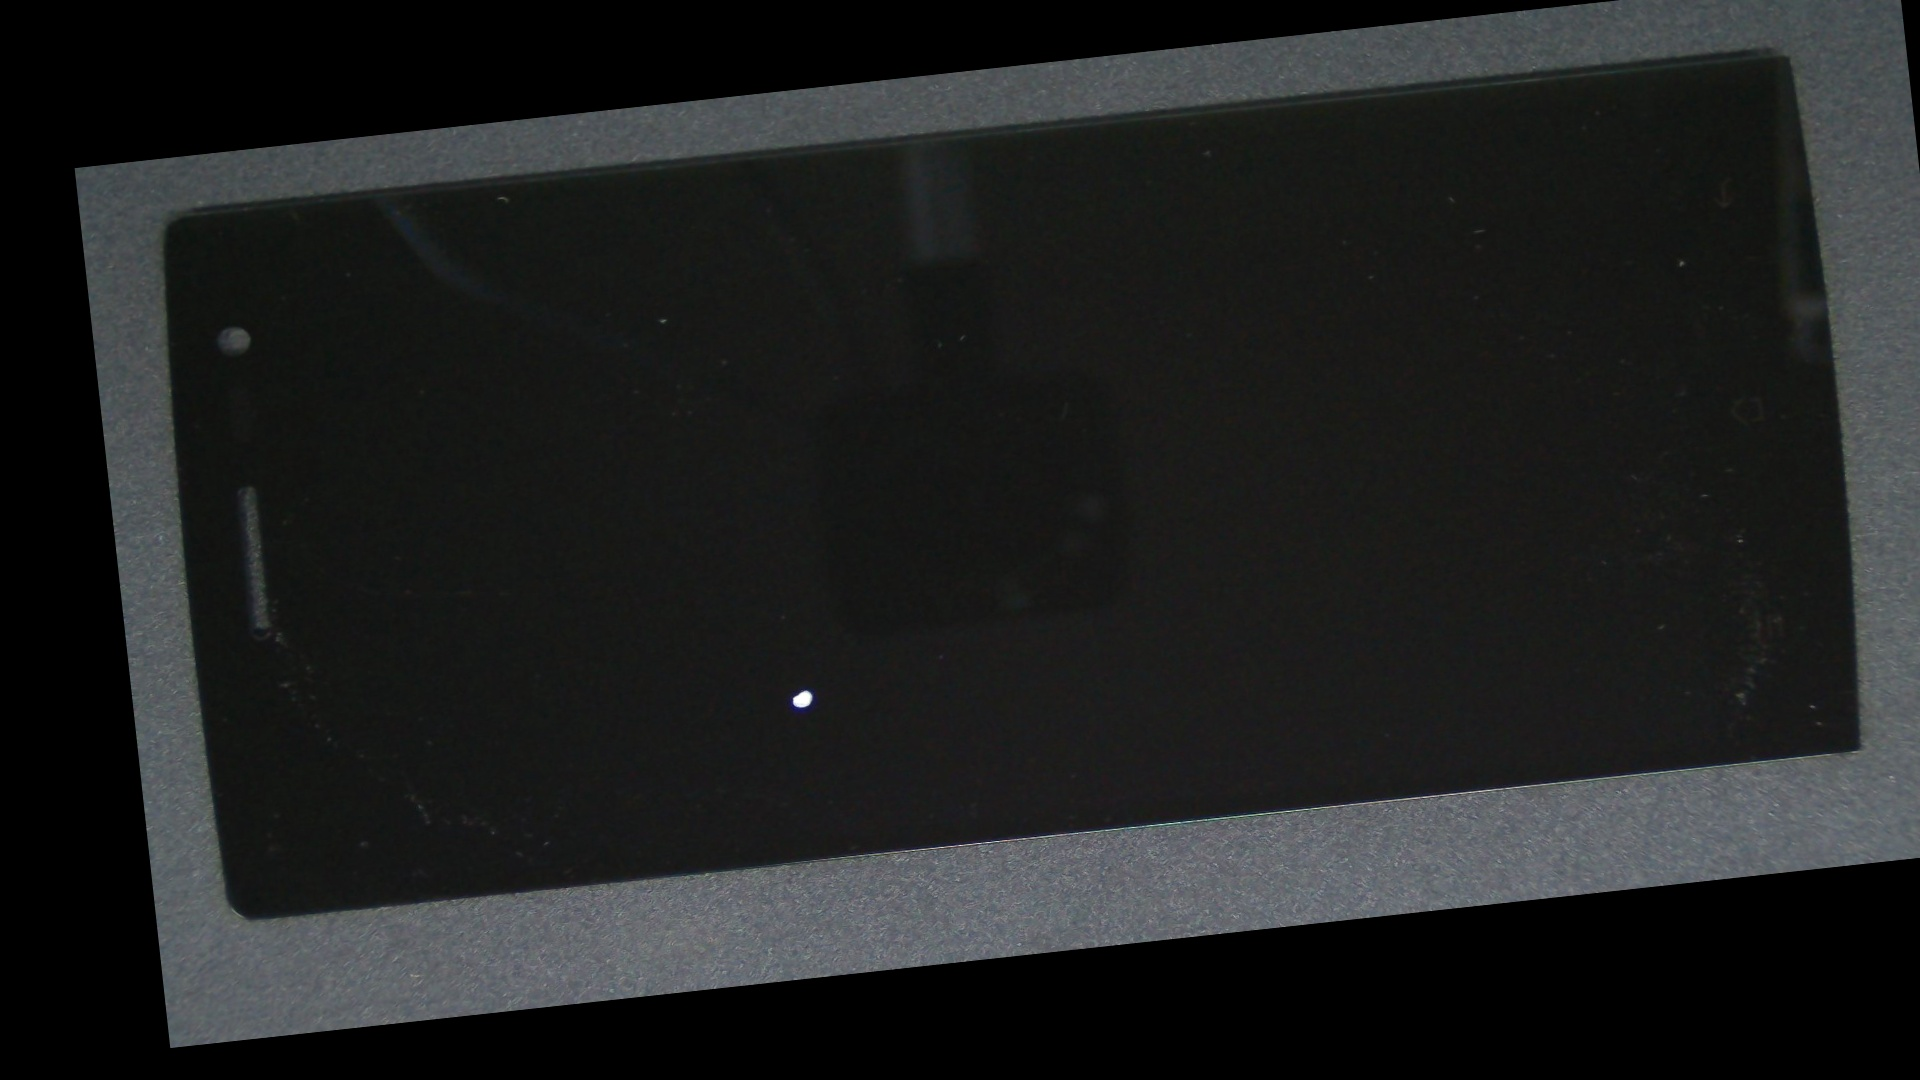oil: (439, 356, 1164, 1011)
